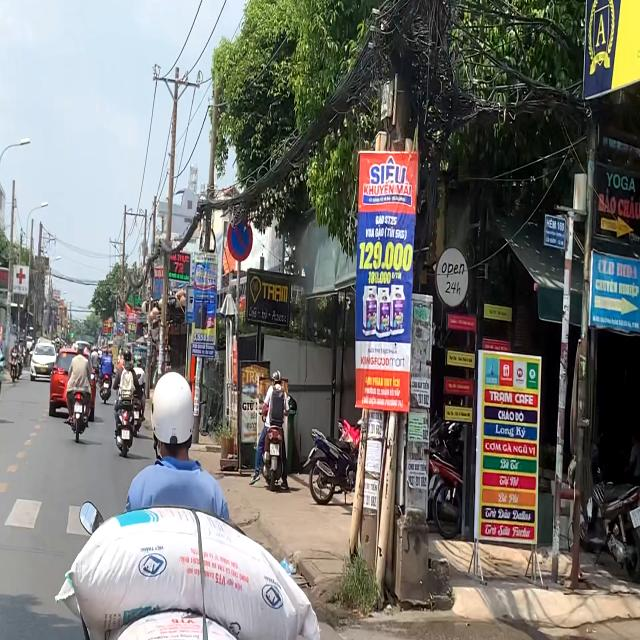P.131a: (228, 215, 254, 261)
